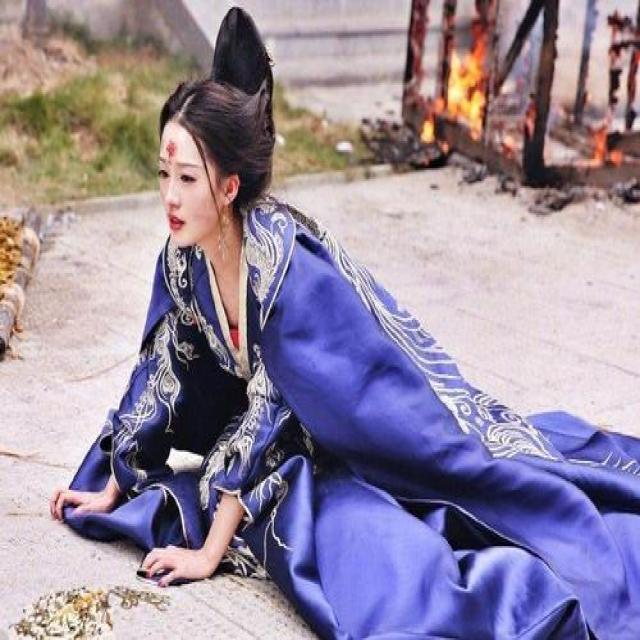fall: (89, 83, 602, 597)
